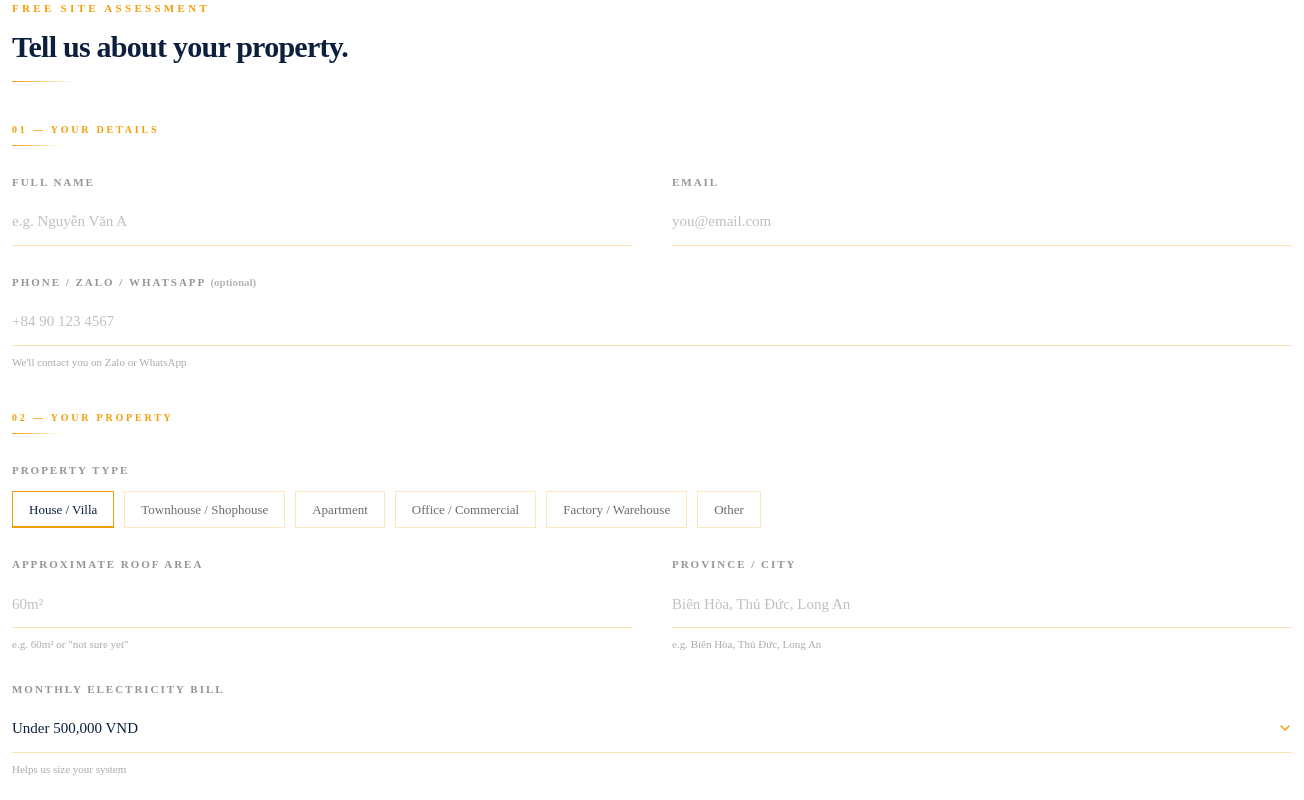
Test: ContactForm › renders the custom monthly bill dropdown with options
// trigger is the button labelled by the "Monthly electricity bill" label
Click the button named "Monthly electricity bill" at (75, 728), box [12,705,1292,752]
(page scrolled)
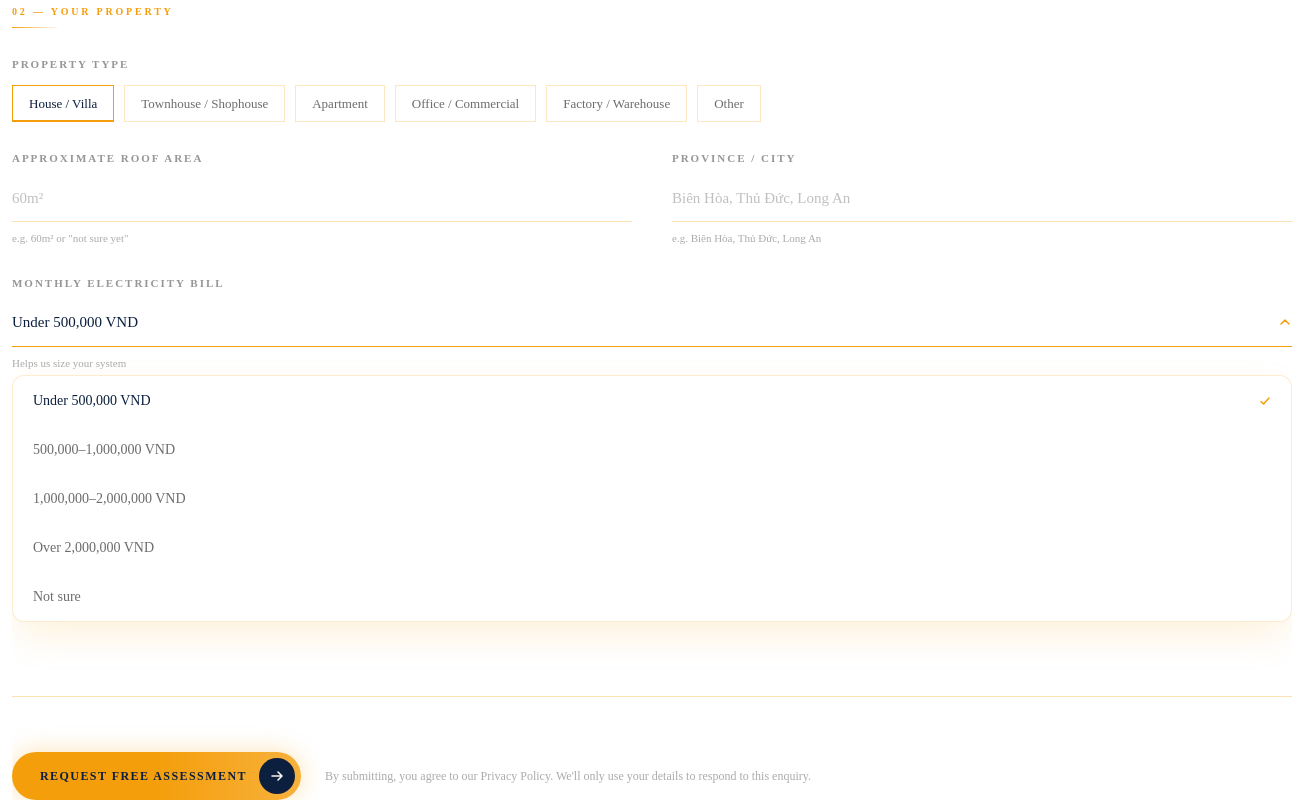
Check: the list is shown, box [12,375,1292,622]
Check: the text "Over 2,000,000 VND" is shown, box [33,537,154,558]
